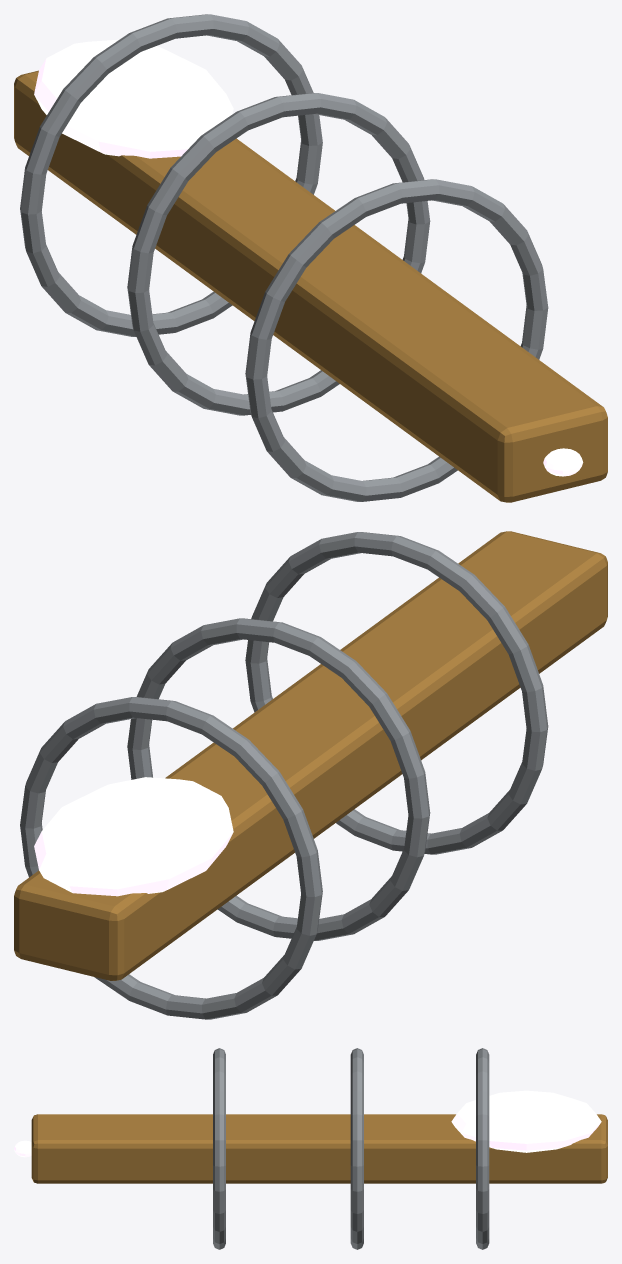
3 renders of one model, top to bottom at view 1: azimuth 30°, elevation 25°; view 2: azimuth 150°, elevation 25°; view 3: azimuth 270°, elevation 25°, orthographic. The views are drawn at different scales.
Visible parts, largest first — view 1: RIMWARD_HULL, RIMWARD_EMISSIVE, RIMWARD_ENGINE_GLOW; view 2: RIMWARD_HULL, RIMWARD_EMISSIVE; view 3: RIMWARD_HULL, RIMWARD_EMISSIVE.
Part boxes in pixels (left/top/right/bottom): RIMWARD_HULL: left=14, top=14, right=607, bottom=502; RIMWARD_EMISSIVE: left=34, top=39, right=233, bottom=158; RIMWARD_ENGINE_GLOW: left=543, top=448, right=583, bottom=476; RIMWARD_HULL: left=14, top=531, right=607, bottom=1019; RIMWARD_EMISSIVE: left=34, top=777, right=233, bottom=896; RIMWARD_HULL: left=31, top=1048, right=607, bottom=1249; RIMWARD_EMISSIVE: left=451, top=1090, right=601, bottom=1152.
Bounding box in the file's own units: 2.52 × 2.52 × 7.39.
